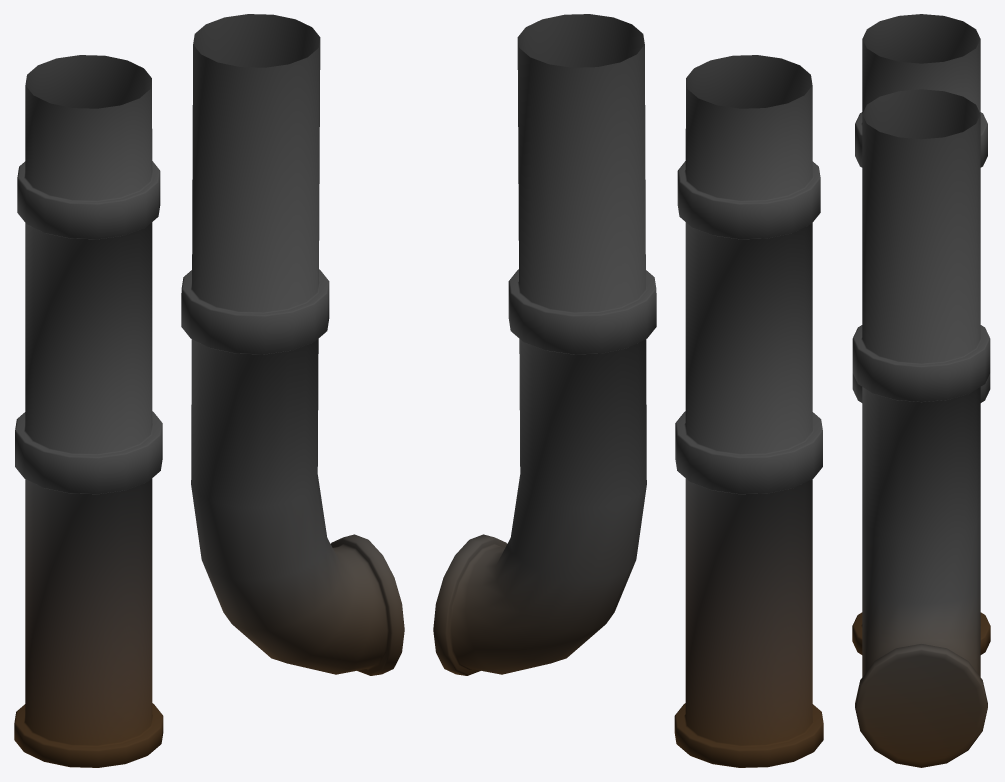
The model's file is SM_Props_Dessous_02 1.fbx.
The picture shows the model from 3 angles, left to right: view 1: azimuth 30°, elevation 25°; view 2: azimuth 150°, elevation 25°; view 3: azimuth 270°, elevation 25°; orthographic projection. The views are drawn at different scales.
Visible parts, largest first — view 1: transform21; view 2: transform21; view 3: transform21.
Part boxes in pixels (box(x1,y1,x2,y2)): transform21: box(14, 14, 404, 767); transform21: box(433, 14, 823, 767); transform21: box(852, 14, 990, 767).
Bounding box in the file's own units: 216 × 391 × 81.3.
